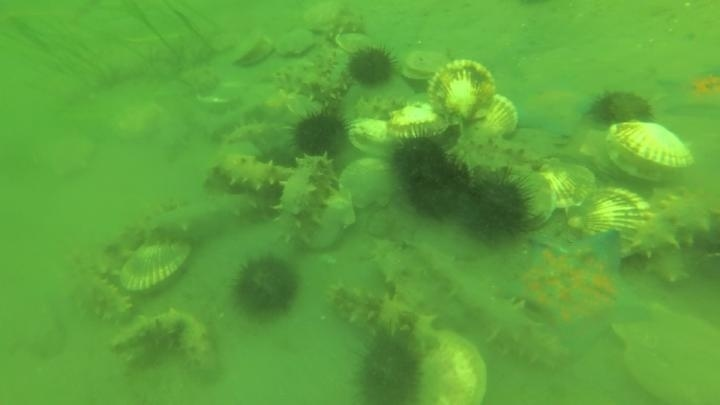echinus: (390, 142, 472, 222), (460, 169, 535, 244), (350, 330, 426, 404), (230, 253, 302, 321), (386, 129, 454, 188), (289, 108, 352, 160), (587, 88, 655, 129), (346, 45, 398, 89), (253, 144, 301, 173)
holothurian: (422, 248, 568, 372), (327, 282, 442, 355), (465, 293, 567, 371), (109, 307, 217, 374), (621, 191, 719, 263), (137, 192, 265, 247), (369, 241, 459, 319), (279, 156, 347, 252), (453, 129, 549, 188), (65, 251, 135, 326), (221, 118, 300, 168), (207, 153, 296, 197), (206, 100, 285, 144), (92, 219, 149, 279), (272, 65, 349, 107), (300, 5, 370, 40), (315, 47, 354, 107), (345, 92, 412, 125)
scallop: (611, 301, 720, 405), (564, 183, 656, 253), (603, 119, 698, 186), (411, 330, 490, 405), (114, 239, 195, 297), (427, 59, 499, 124), (534, 158, 600, 217), (337, 158, 397, 213), (507, 166, 557, 232), (466, 93, 521, 144), (385, 100, 447, 141), (300, 4, 370, 40), (267, 89, 325, 125), (399, 47, 453, 85), (344, 116, 392, 157), (231, 33, 278, 70), (273, 26, 319, 61), (333, 31, 376, 57)
starfish: (503, 231, 635, 350), (518, 78, 598, 140), (657, 63, 719, 117)
